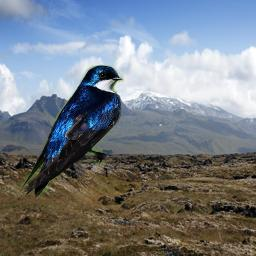Swallow: (20, 65, 124, 198)
